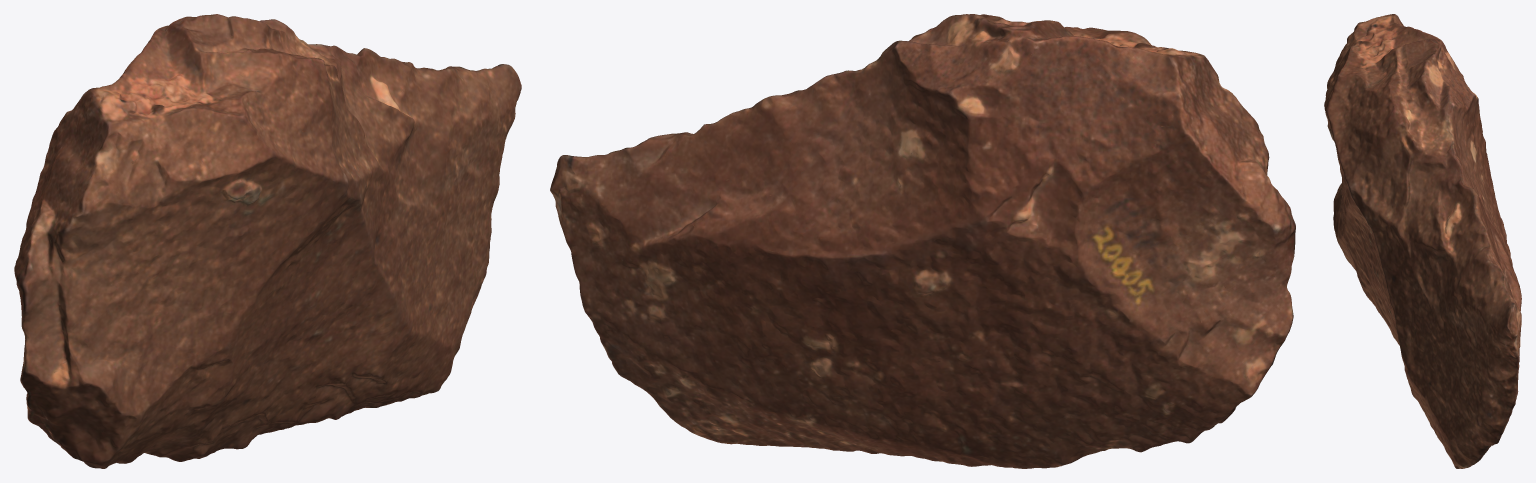
3 views of the same model, side by side, from view 1: azimuth 30°, elevation 25°; view 2: azimuth 150°, elevation 25°; view 3: azimuth 270°, elevation 25° (orthographic). The views are drawn at different scales.
Visible parts, largest first — view 1: Node; view 2: Node; view 3: Node.
Boxes of the visible parts, bbox=[...] form: Node: bbox=[14, 14, 521, 468]; Node: bbox=[550, 14, 1295, 468]; Node: bbox=[1324, 14, 1521, 468].
Size of the model in its own units: 142 by 101 by 55.02.
Materials: 1 (1 with a texture image).
